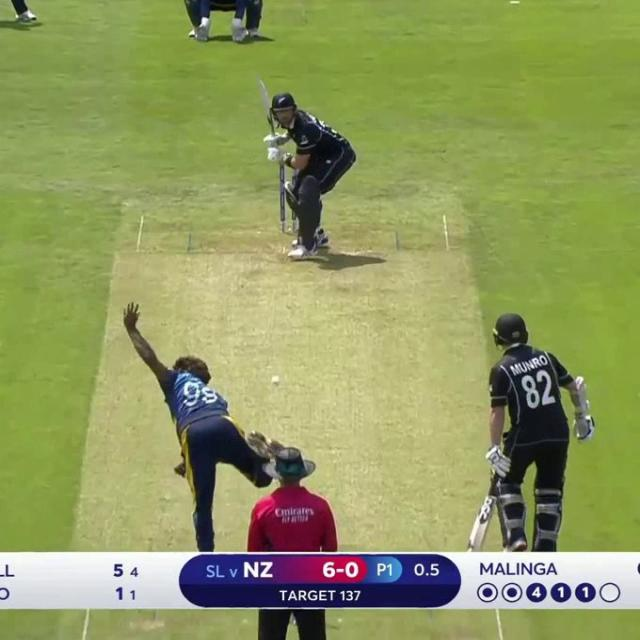bat: (456, 489, 500, 552), (257, 77, 277, 136)
